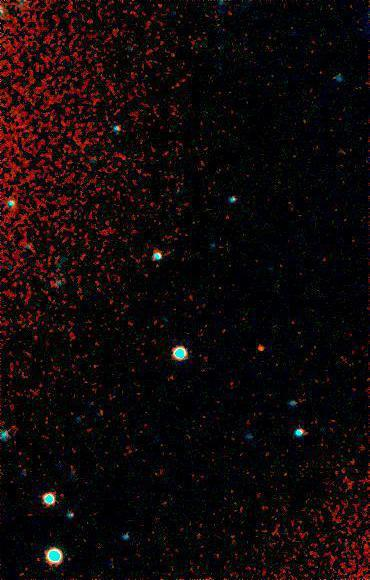star: (244, 334, 274, 364)
